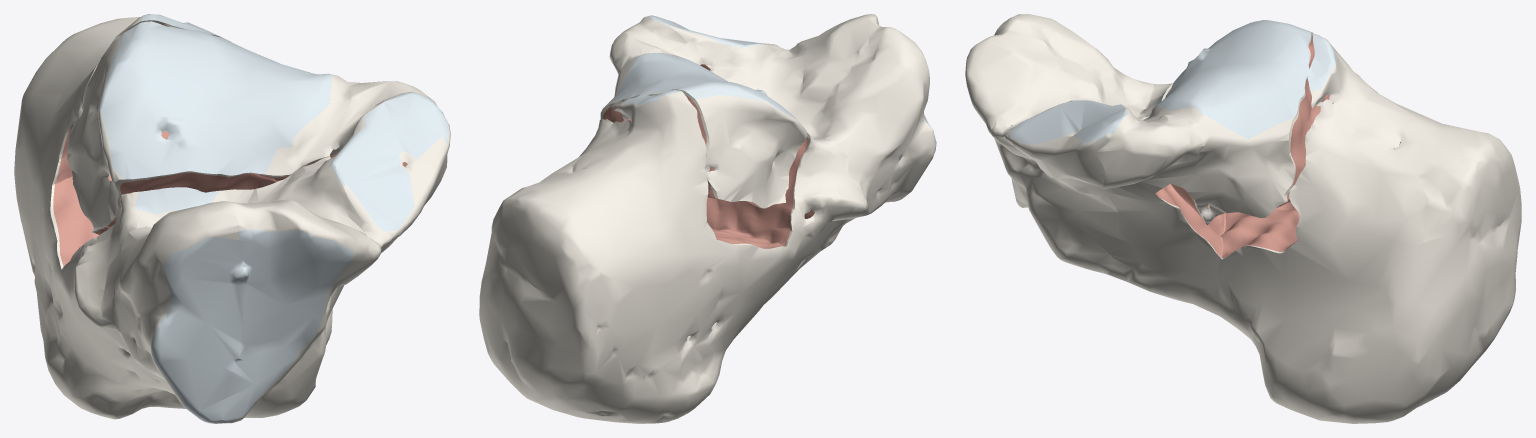
Rendered from G-2C-ACD_elderly.glb.
The picture shows the model from 3 angles, left to right: view 1: azimuth 30°, elevation 25°; view 2: azimuth 150°, elevation 25°; view 3: azimuth 270°, elevation 25°; orthographic projection. The views are drawn at different scales.
Visible parts, largest first — view 1: calcaneus: depressed lateral joint fragment, calcaneus: tuberosity, calcaneus: central anterior process (zones B) fragment, calcaneus: anterolateral (zone A) fragment, calcaneus: sustentacular fragment, calcaneus: posterior sustentaculum (middle facet line, zone ; view 2: calcaneus: tuberosity, calcaneus: depressed lateral joint fragment, calcaneus: anterolateral (zone A) fragment, calcaneus: central anterior process (zones B) fragment, calcaneus: posterior sustentaculum (middle facet line, zone , calcaneus: sustentacular fragment; view 3: calcaneus: tuberosity, calcaneus: depressed lateral joint fragment, calcaneus: central anterior process (zones B) fragment, calcaneus: sustentacular fragment, calcaneus: posterior sustentaculum (middle facet line, zone , calcaneus: anterolateral (zone A) fragment.
Boxes of the visible parts, x1,y1,x2,y2 form: calcaneus: depressed lateral joint fragment: (67,21,359,234); calcaneus: tuberosity: (14,14,342,419); calcaneus: central anterior process (zones B) fragment: (219,160,378,423); calcaneus: anterolateral (zone A) fragment: (101,201,247,423); calcaneus: sustentacular fragment: (315,99,450,258); calcaneus: posterior sustentaculum (middle facet line, zone : (349,81,437,164); calcaneus: tuberosity: (479,58,867,423); calcaneus: depressed lateral joint fragment: (600,38,807,208); calcaneus: anterolateral (zone A) fragment: (818,27,936,247); calcaneus: central anterior process (zones B) fragment: (721,14,886,234); calcaneus: posterior sustentaculum (middle facet line, zone : (609,16,687,73); calcaneus: sustentacular fragment: (649,15,790,74); calcaneus: tuberosity: (1109,34,1521,423); calcaneus: depressed lateral joint fragment: (1143,20,1320,224); calcaneus: central anterior process (zones B) fragment: (965,21,1150,276); calcaneus: sustentacular fragment: (990,100,1128,203); calcaneus: posterior sustentaculum (middle facet line, zone : (1103,108,1204,188); calcaneus: anterolateral (zone A) fragment: (999,14,1154,97).
Size of the model in its own units: 0.0475 by 0.0513 by 0.0757.
